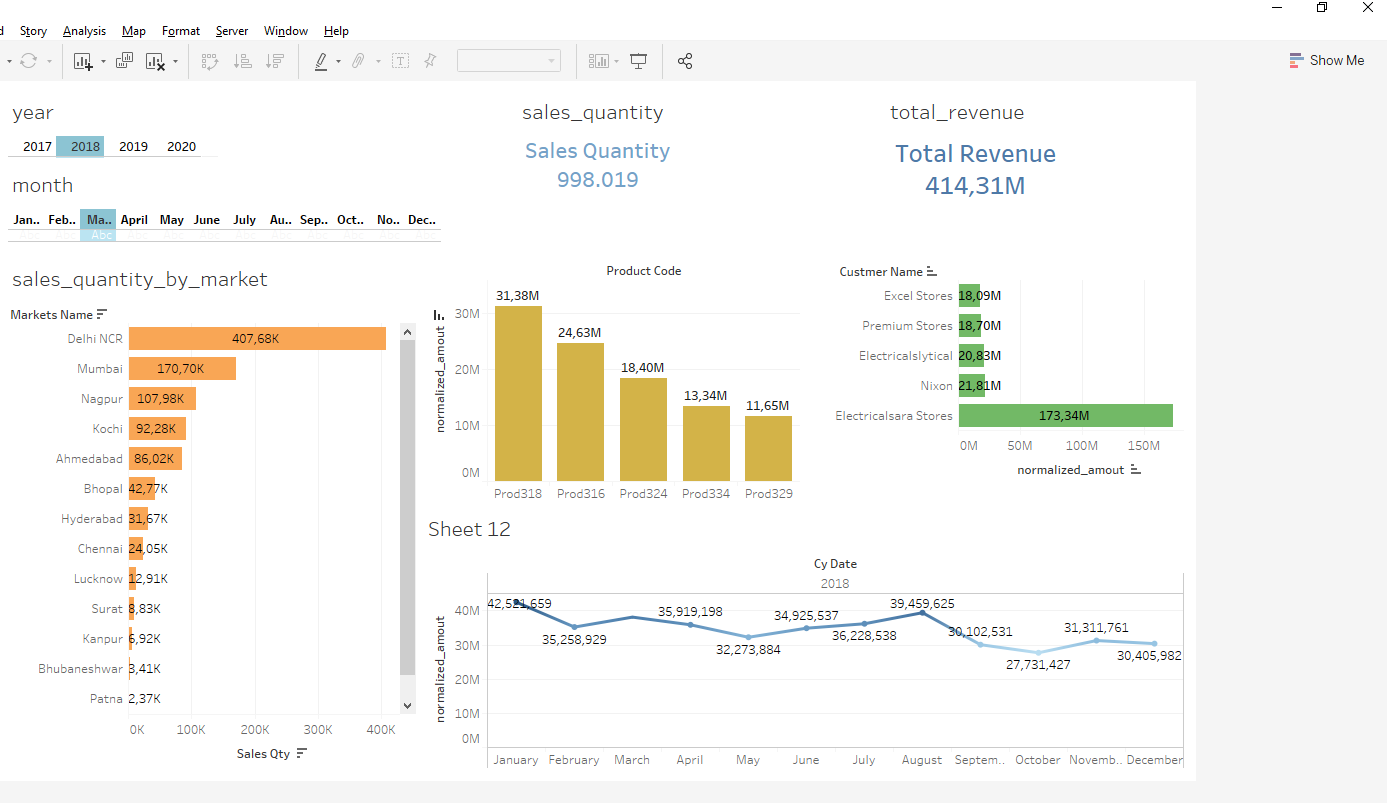

The page's visual inventory and layout, read from the dashboard file:
{"tool":"tableau","page":{"name":"Dashboard 2","canvas":[1500,900],"ordinal":1},"visuals":[{"type":"worksheet","box":[0,0,1500,900]},{"type":"worksheet","param":"horz","box":[8,8,1484,884]},{"type":"worksheet","box":[8,8,1484,884]},{"type":"worksheet","title":"year","mark":"Automatic","cols":["cy_date"],"box":[8,8,462,76]},{"type":"worksheet","title":"sales_quantity","mark":"Automatic","box":[470,8,207,199]},{"type":"worksheet","title":"total_revenue","mark":"Automatic","box":[677,8,191,199]},{"type":"worksheet","title":"Sheet 10","mark":"Automatic","rows":["custmer_name"],"cols":["Calculation_856809846565494784"],"box":[868,8,624,199]},{"type":"worksheet","title":"month","mark":"Automatic","cols":["cy_date"],"box":[8,84,462,123]},{"type":"worksheet","title":"sales_quantity_by_market","mark":"Automatic","rows":["markets_name"],"cols":["sales_qty"],"box":[8,207,521,685]},{"type":"worksheet","title":"Sheet 11","mark":"Automatic","rows":["Calculation_856809846565494784"],"cols":["product_code"],"box":[529,207,963,235]},{"type":"worksheet","title":"Sheet 12","mark":"Automatic","rows":["Calculation_856809846565494784"],"cols":["cy_date","cy_date"],"box":[529,442,963,450]}]}

Visuals, with their boxes on the page's 1500x900 design canvas (x1, y1, x2, y2). These are canvas units, not pixel positions in the 1387x803 screenshot, which may show the page scaled, cropped or inside an application window:
worksheet: <bbox>0, 0, 1500, 900</bbox>
worksheet: <bbox>8, 8, 1492, 892</bbox>
worksheet: <bbox>8, 8, 1492, 892</bbox>
"year" worksheet: <bbox>8, 8, 470, 84</bbox>
"sales_quantity" worksheet: <bbox>470, 8, 677, 207</bbox>
"total_revenue" worksheet: <bbox>677, 8, 868, 207</bbox>
"Sheet 10" worksheet: <bbox>868, 8, 1492, 207</bbox>
"month" worksheet: <bbox>8, 84, 470, 207</bbox>
"sales_quantity_by_market" worksheet: <bbox>8, 207, 529, 892</bbox>
"Sheet 11" worksheet: <bbox>529, 207, 1492, 442</bbox>
"Sheet 12" worksheet: <bbox>529, 442, 1492, 892</bbox>
